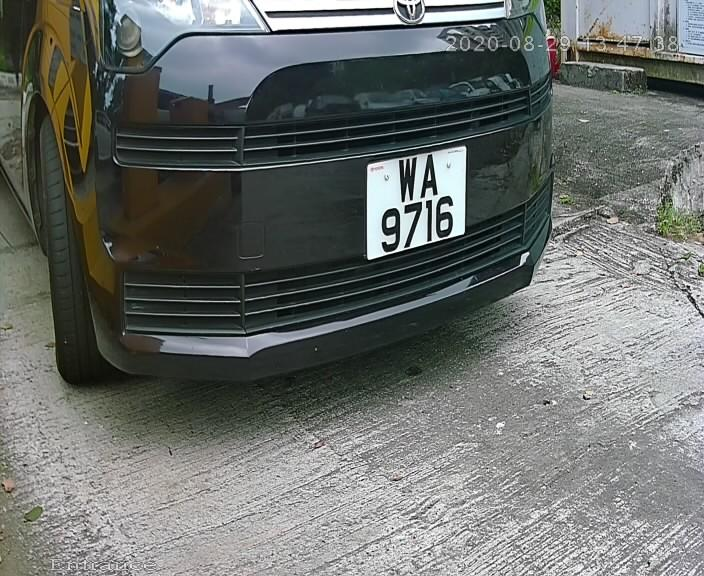License Plate: (356, 137, 478, 265)
